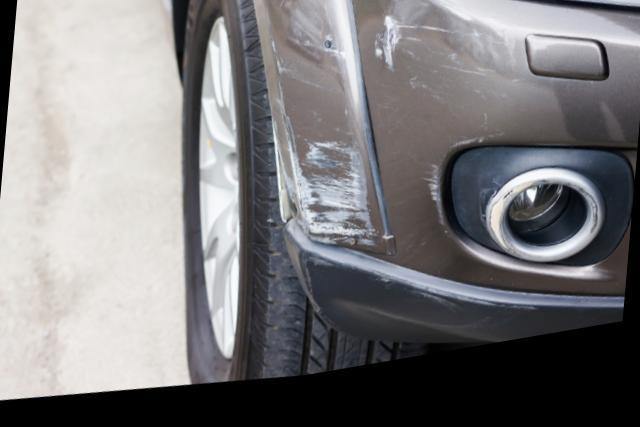rub: (264, 0, 376, 261)
scratch: (367, 17, 504, 223)
